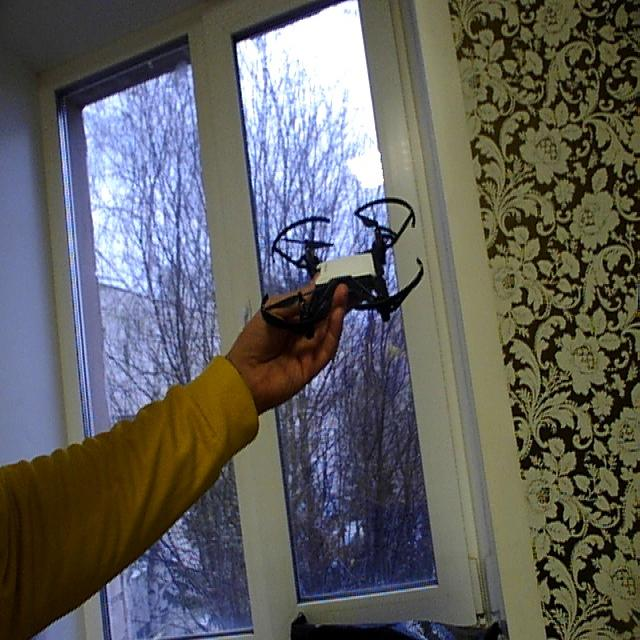drone: (259, 193, 430, 349)
